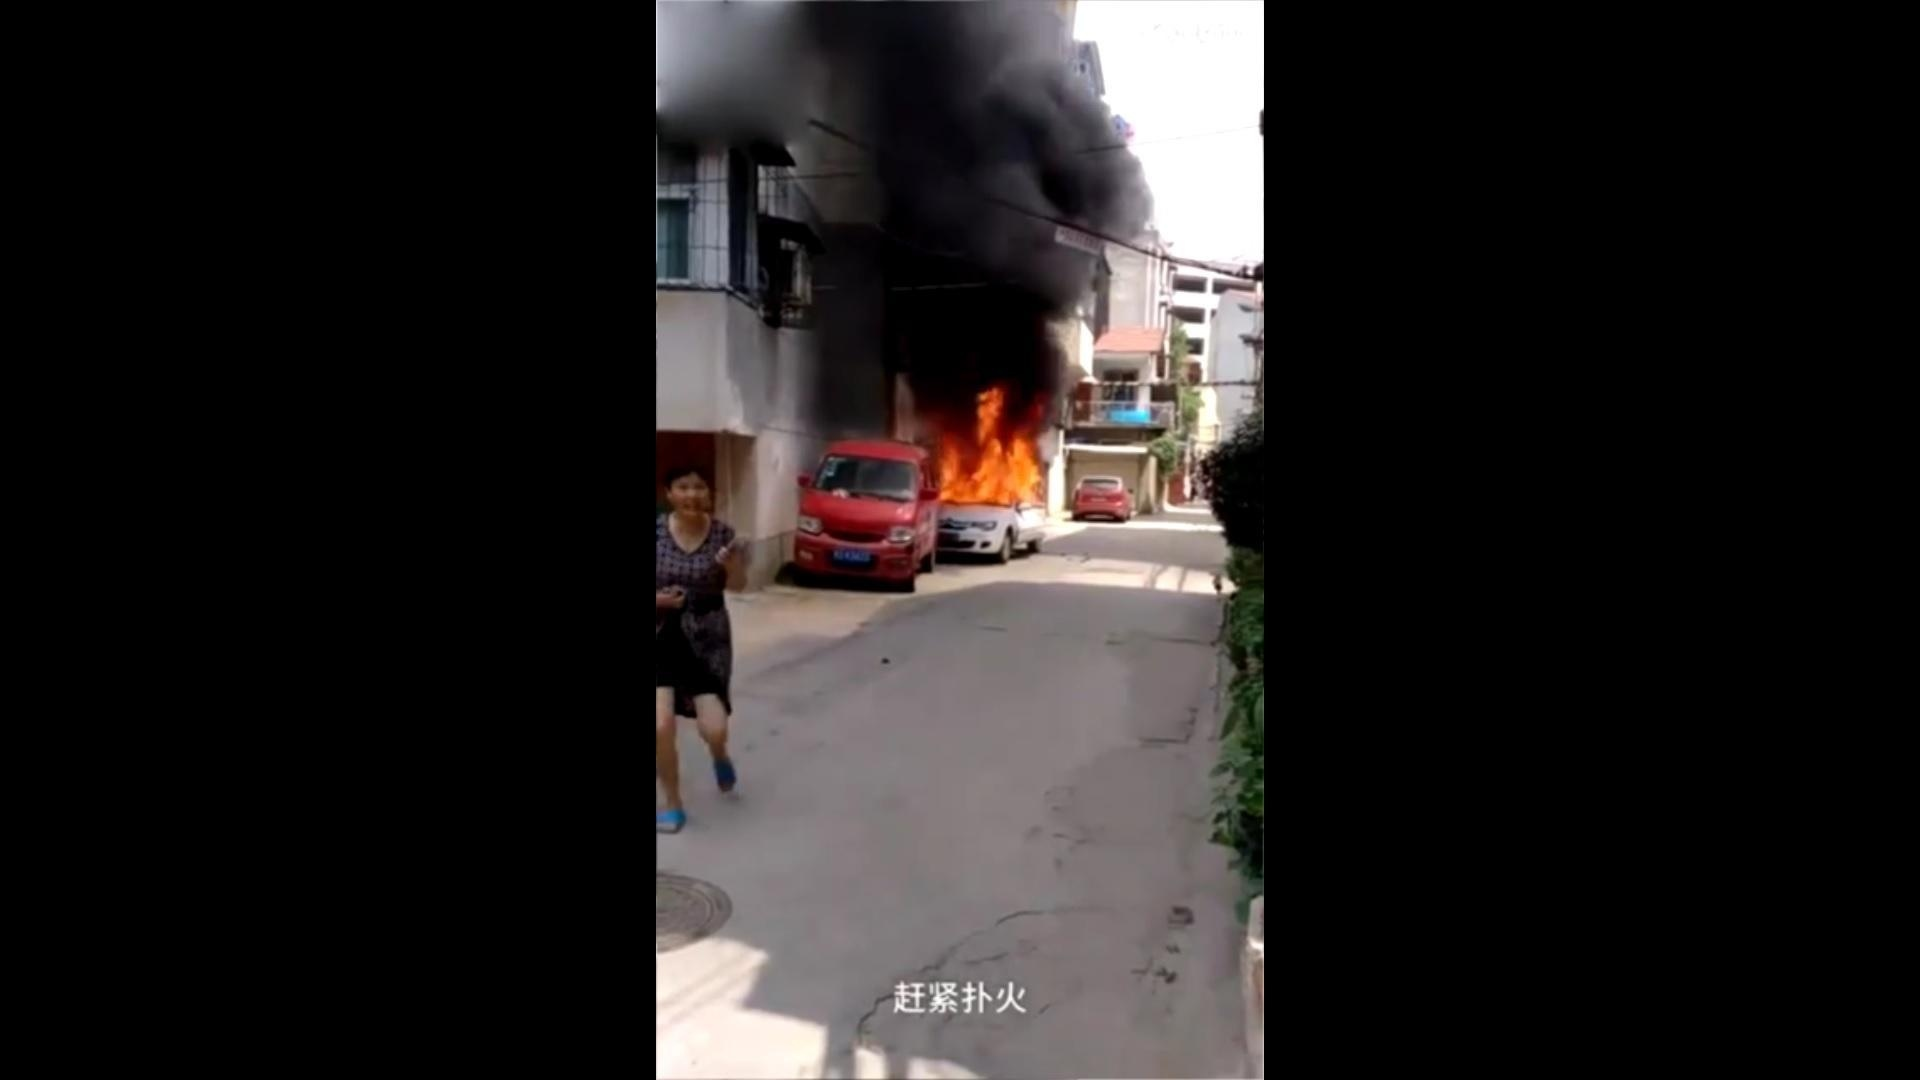fire: (932, 382, 1048, 505)
